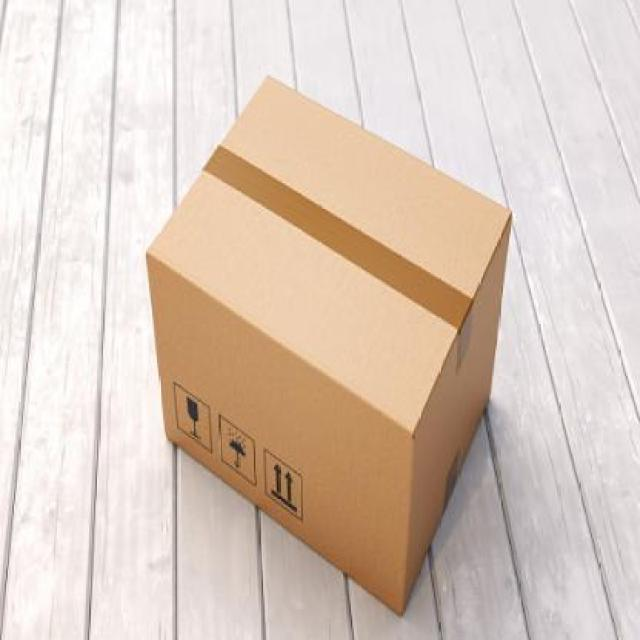box: (145, 66, 526, 621)
